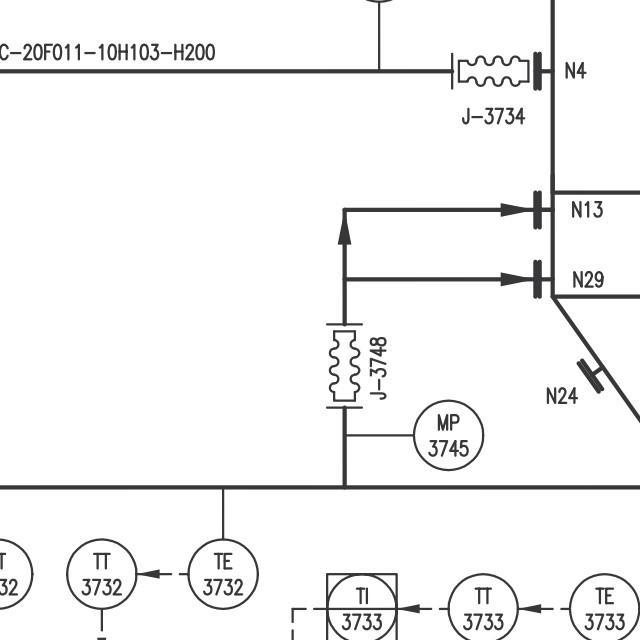EJ: (320, 315, 369, 414), (443, 45, 536, 95)
